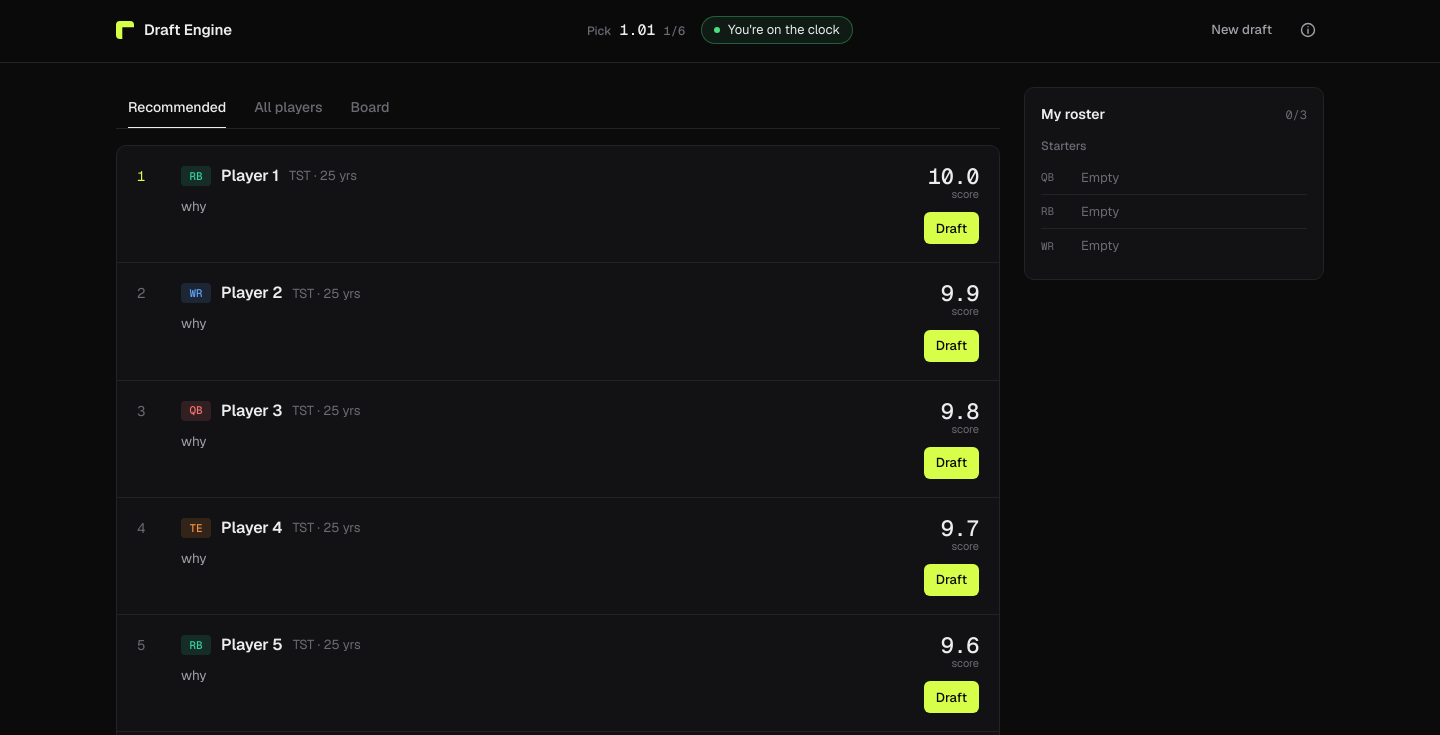
Test: full draft: sim stops at the last pick and the draft completes
The width and height of the screenshot is (1440, 735).
# Pick 1 (you)
Step 1. Click the button "Draft" below "10.0" → (951,228), box x1=924 y1=212 x2=979 y2=244
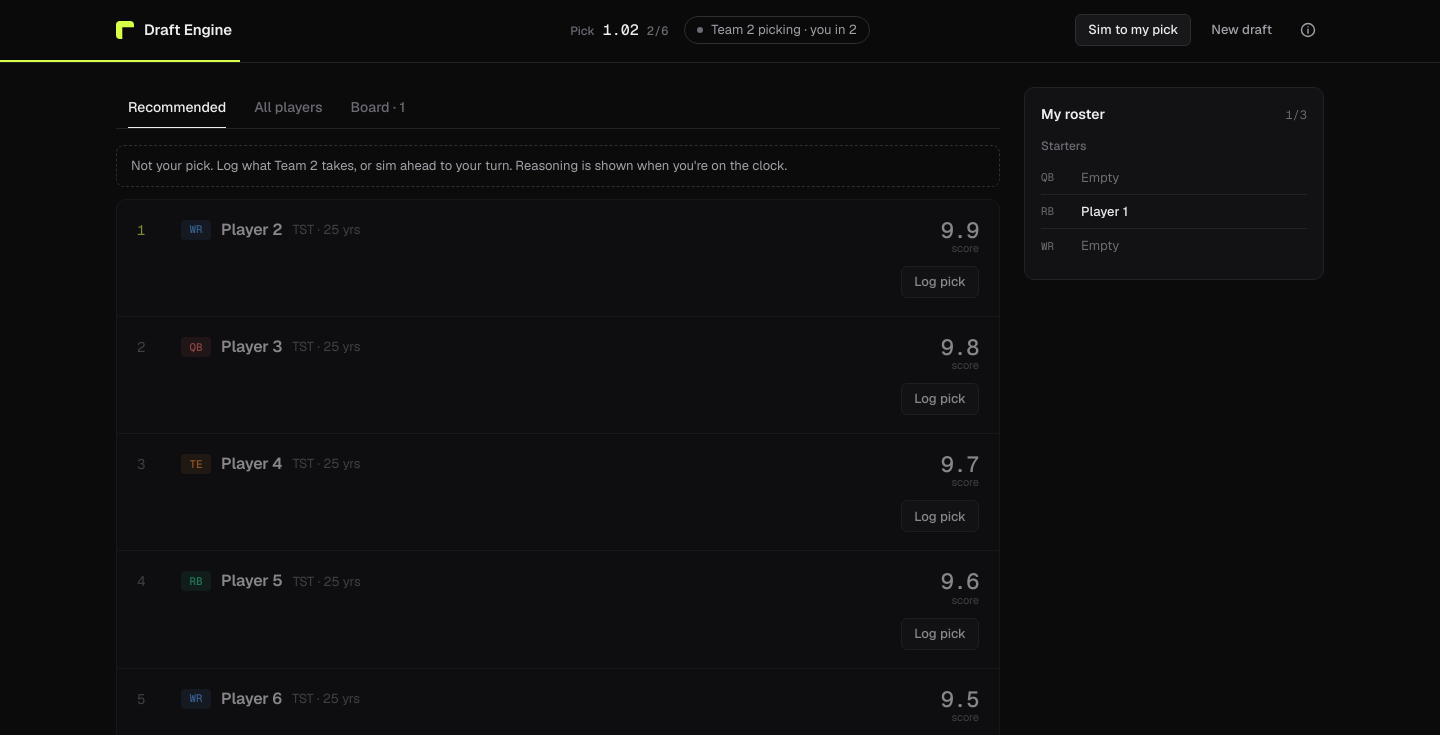
# Picks 2-3 (Team 2) via sim
Step 2. Click the button "Sim to my pick" → (1133,30), box x1=1075 y1=14 x2=1191 y2=46
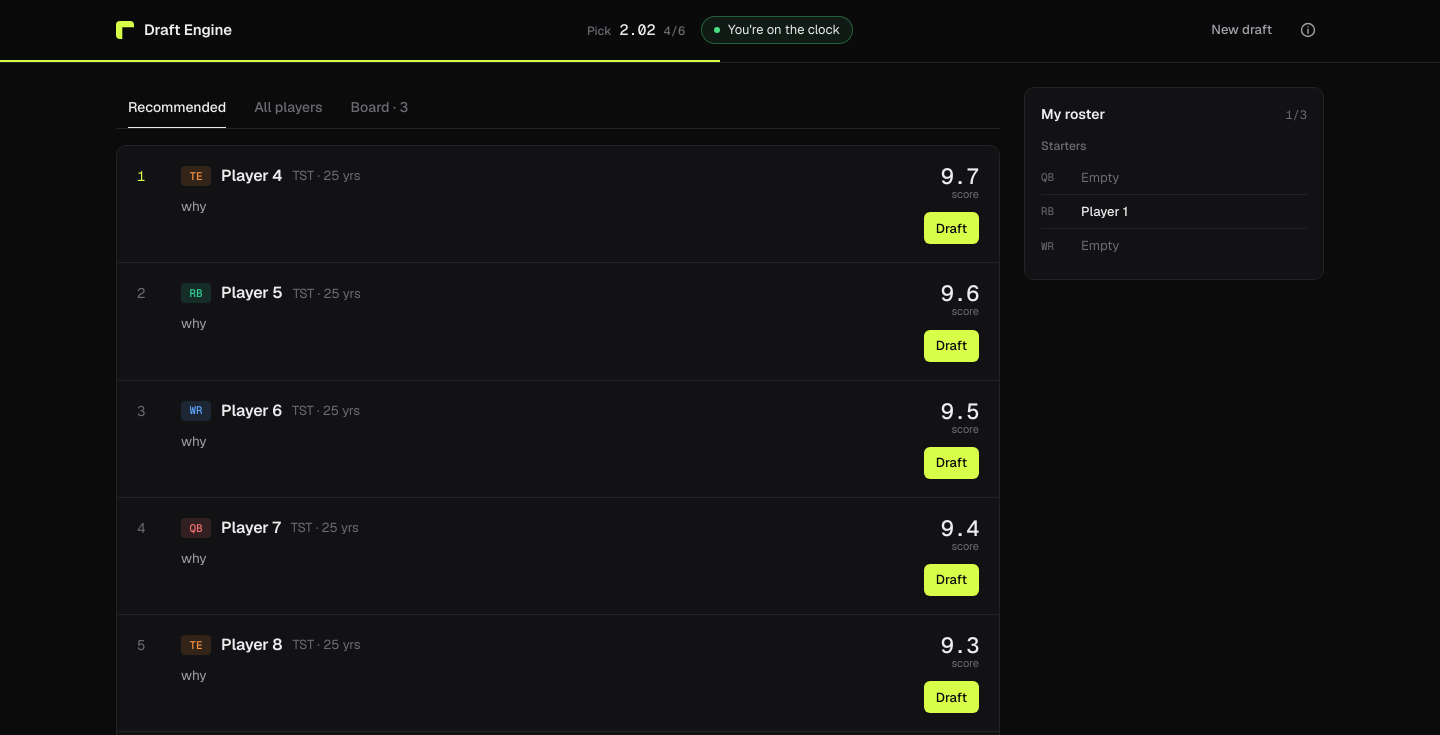
Expected: the text "You're on the clock" is shown, x1=701 y1=16 x2=853 y2=44
# Picks 4 and 5 (you, back to back at the turn)
Step 3. Click the button "Draft" below "9.7" → (951,228), box x1=924 y1=212 x2=979 y2=244
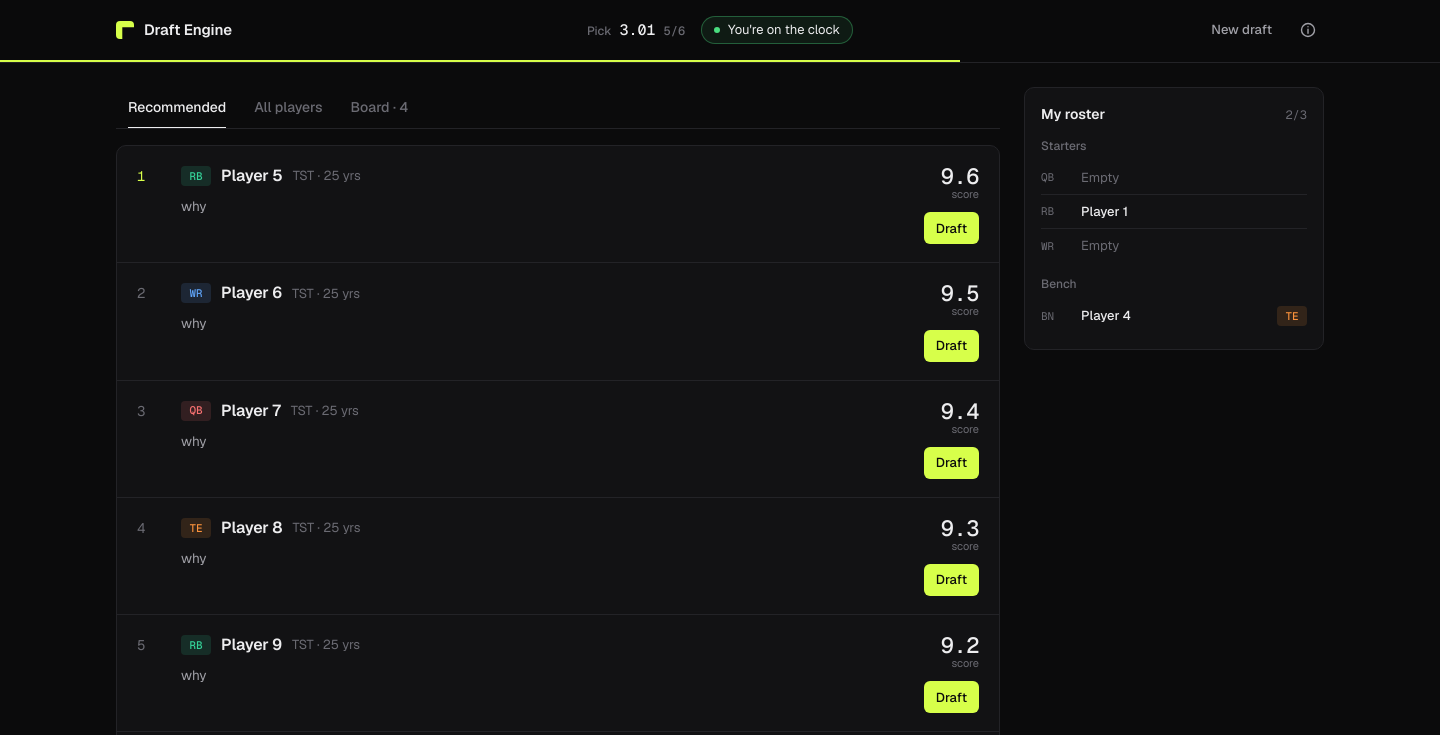
Expected: the text "You're on the clock" is shown, x1=701 y1=16 x2=853 y2=44
Step 4. Click the button "Draft" below "9.6" → (951,228), box x1=924 y1=212 x2=979 y2=244
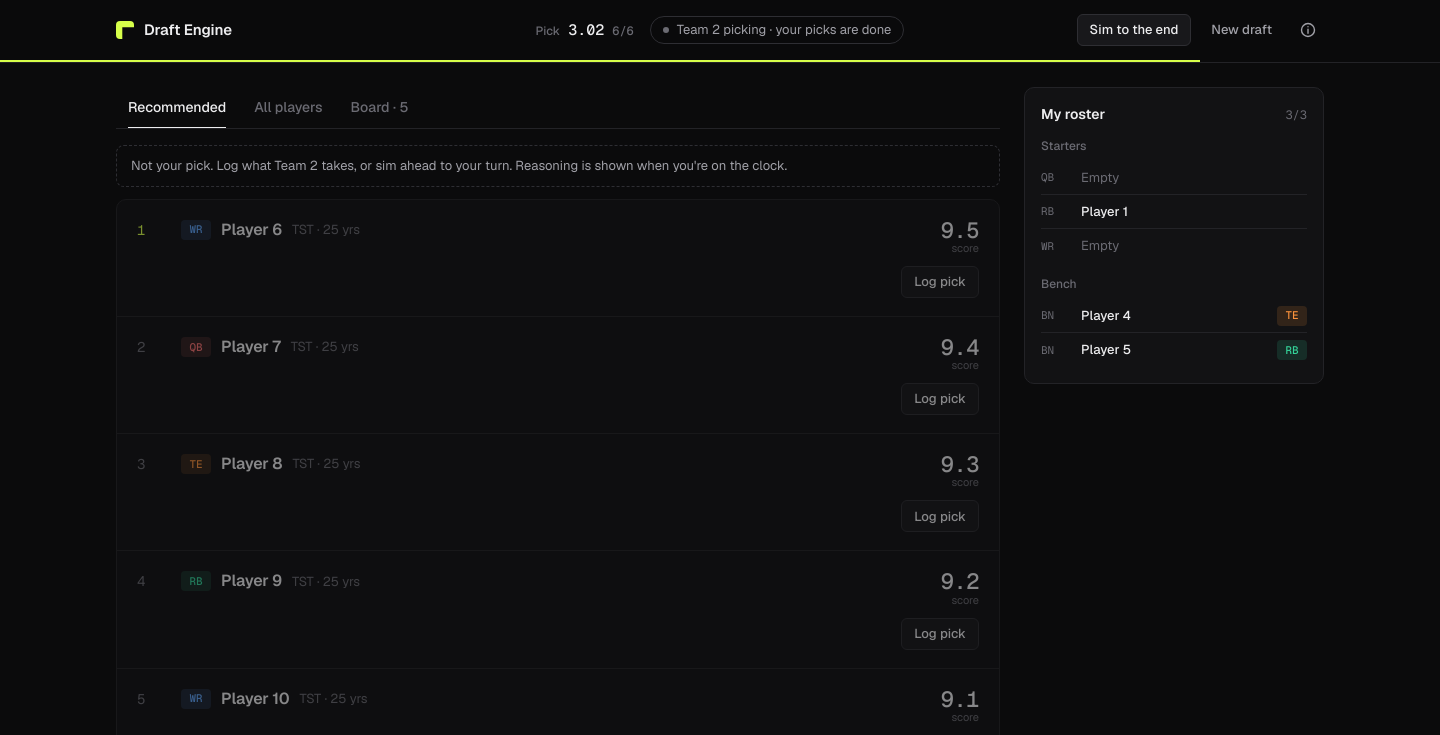
# Pick 6 is Team 2's, and the last pick of the draft
Step 5. Click the button "Sim to the end" → (1134,30), box x1=1077 y1=14 x2=1191 y2=46
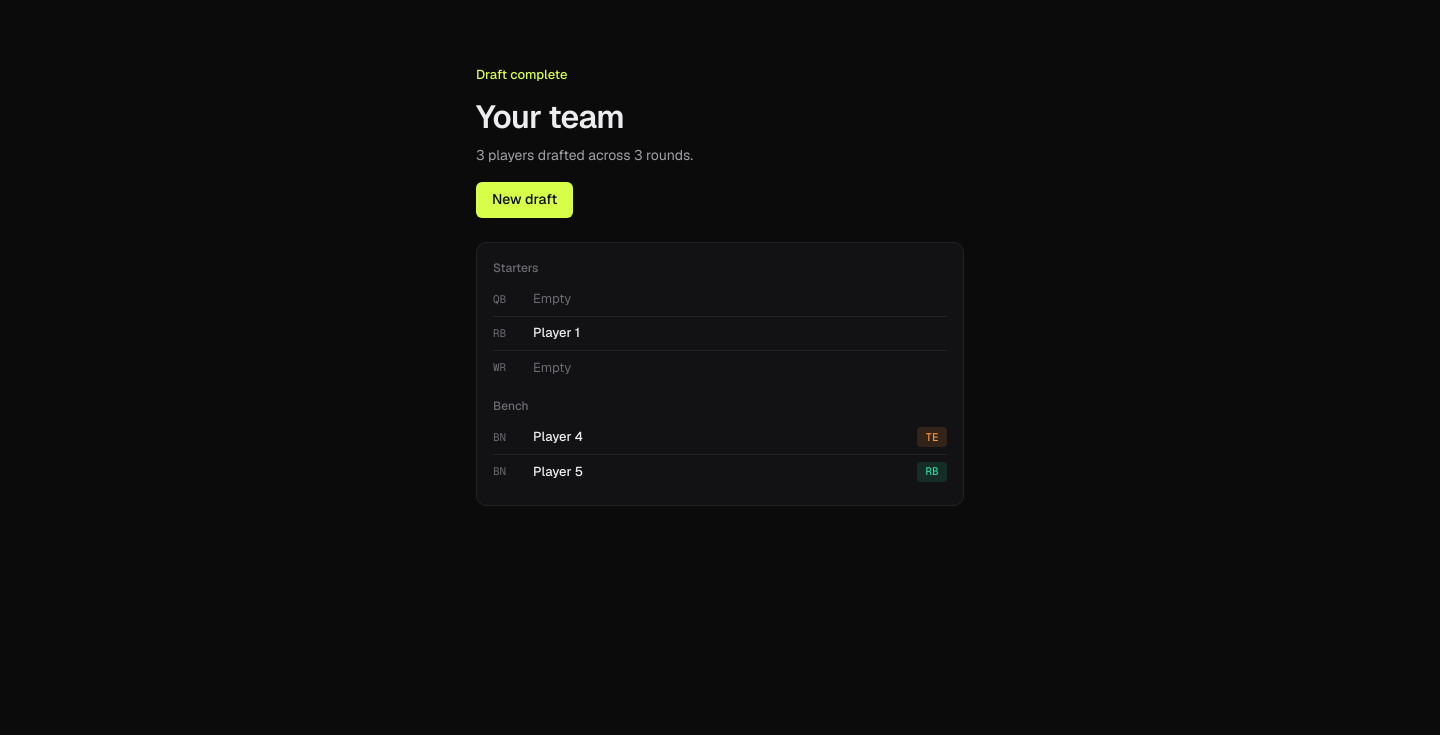
Expected: the heading "Your team" is shown, x1=476 y1=96 x2=624 y2=136
